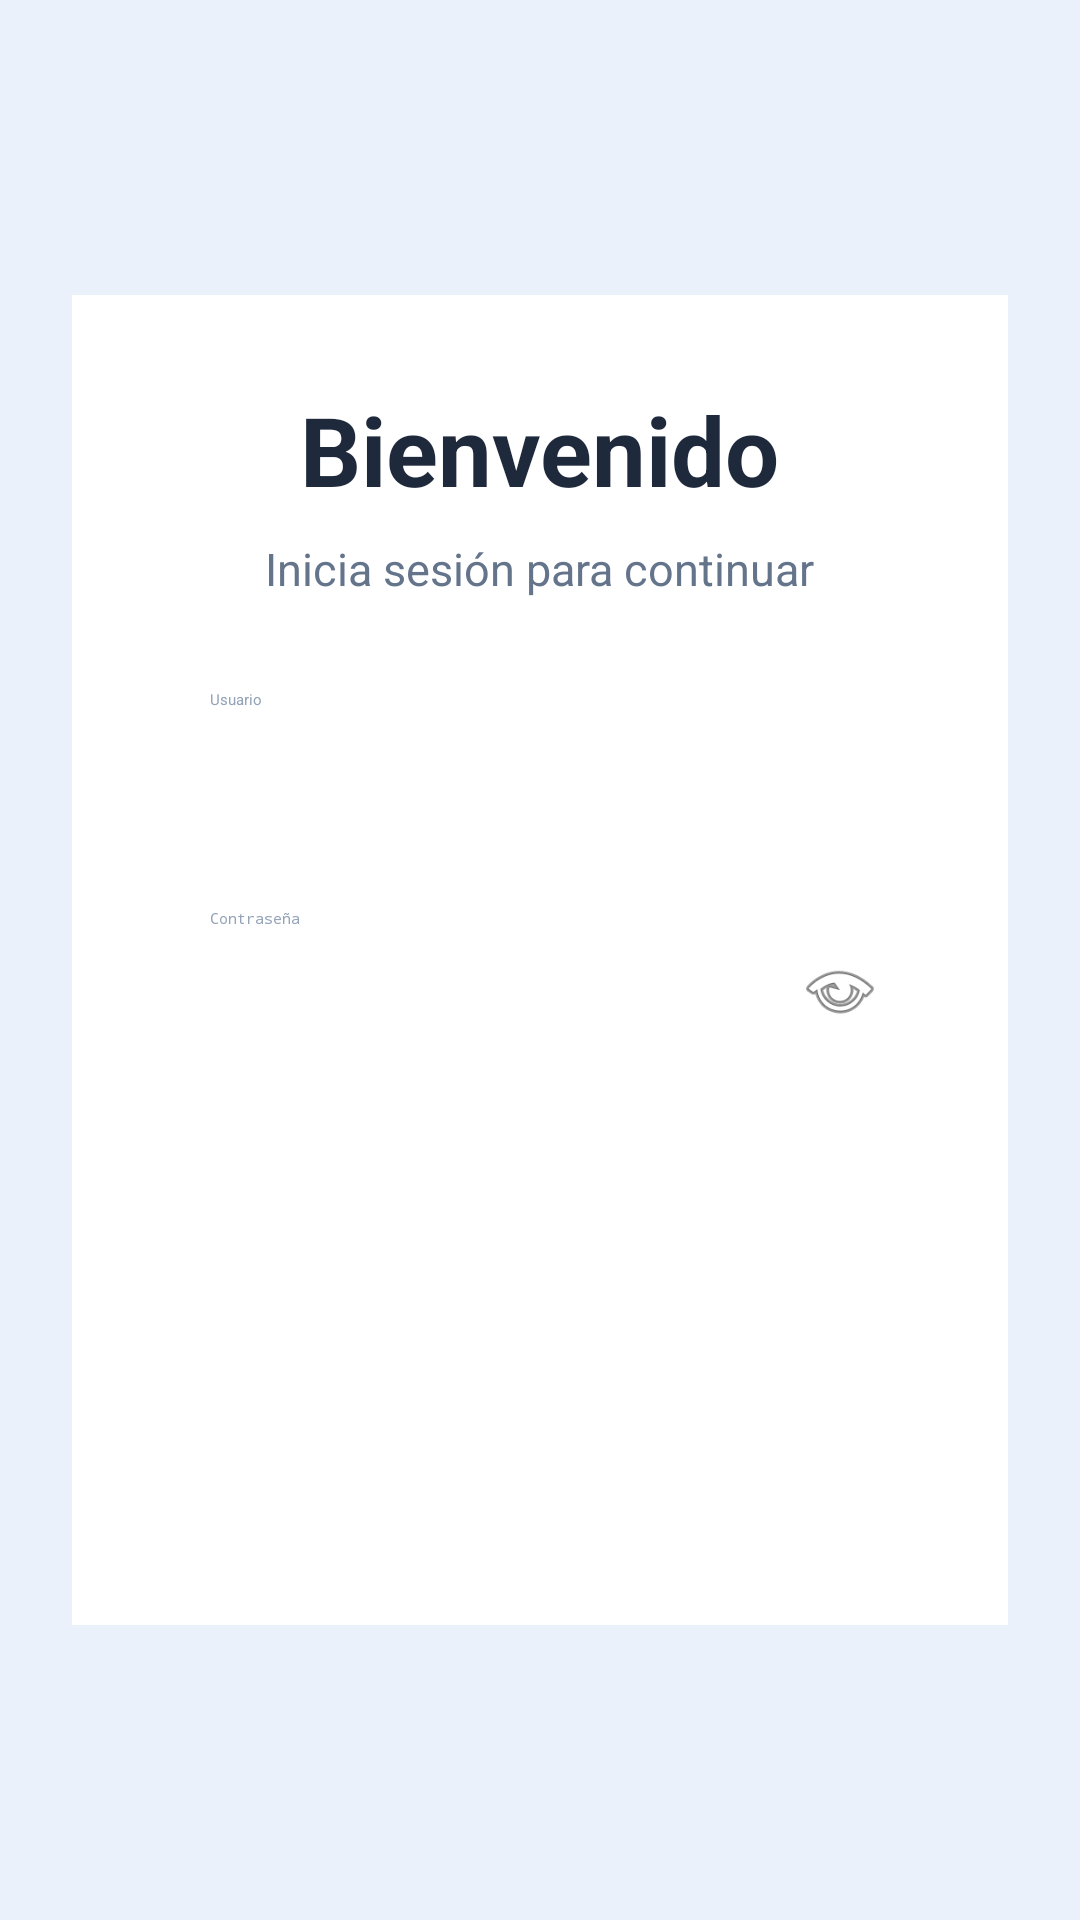

Icon bounding boxes for this 1080*1920 phone screenshot, format rect(x1, y1, x2, y2):
view: rect(806, 971, 874, 1014)
